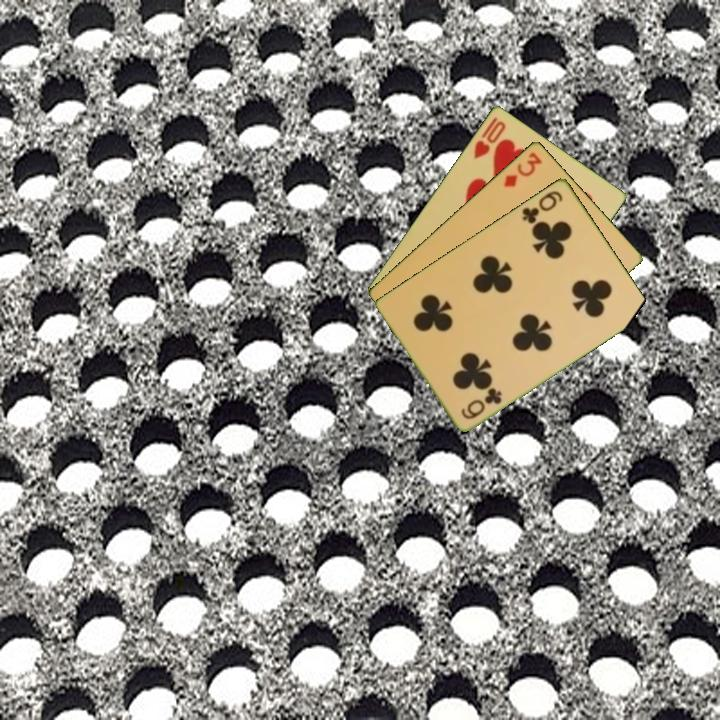10h: (470, 113, 509, 162)
3d: (500, 148, 545, 190)
6c: (518, 187, 566, 226), (457, 384, 505, 422)
